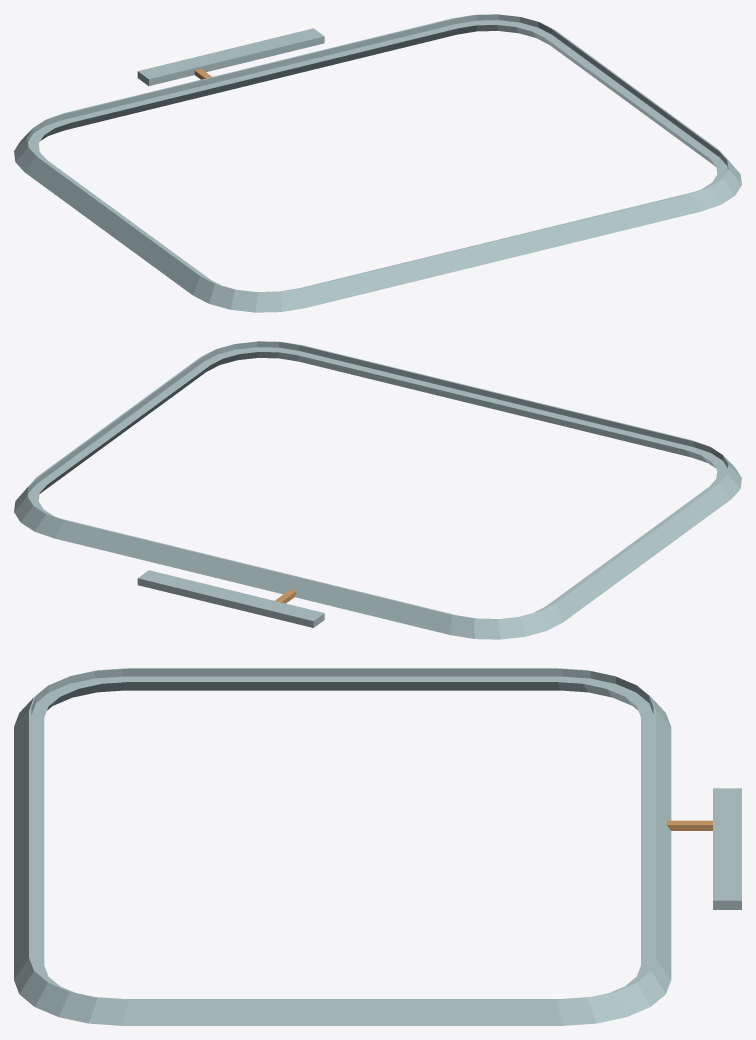
Rendered from D_clear_CONNECTED_2parts.glb.
3 views of the same model, one above another, from view 1: azimuth 30°, elevation 25°; view 2: azimuth 150°, elevation 25°; view 3: azimuth 270°, elevation 25° (orthographic). The views are drawn at different scales.
Parts seen in each view (by area): view 1: 00_head_ring, 01_led_band; view 2: 00_head_ring, 01_led_band; view 3: 00_head_ring, 01_led_band.
Part boxes in pixels (left/top/right/bottom): 00_head_ring: left=14, top=14, right=741, bottom=312; 01_led_band: left=137, top=28, right=324, bottom=85; 00_head_ring: left=14, top=341, right=741, bottom=639; 01_led_band: left=137, top=570, right=324, bottom=627; 00_head_ring: left=14, top=668, right=671, bottom=1025; 01_led_band: left=713, top=788, right=741, bottom=909.
Size of the model in its own units: 0.098 by 0.0026 by 0.0875.
